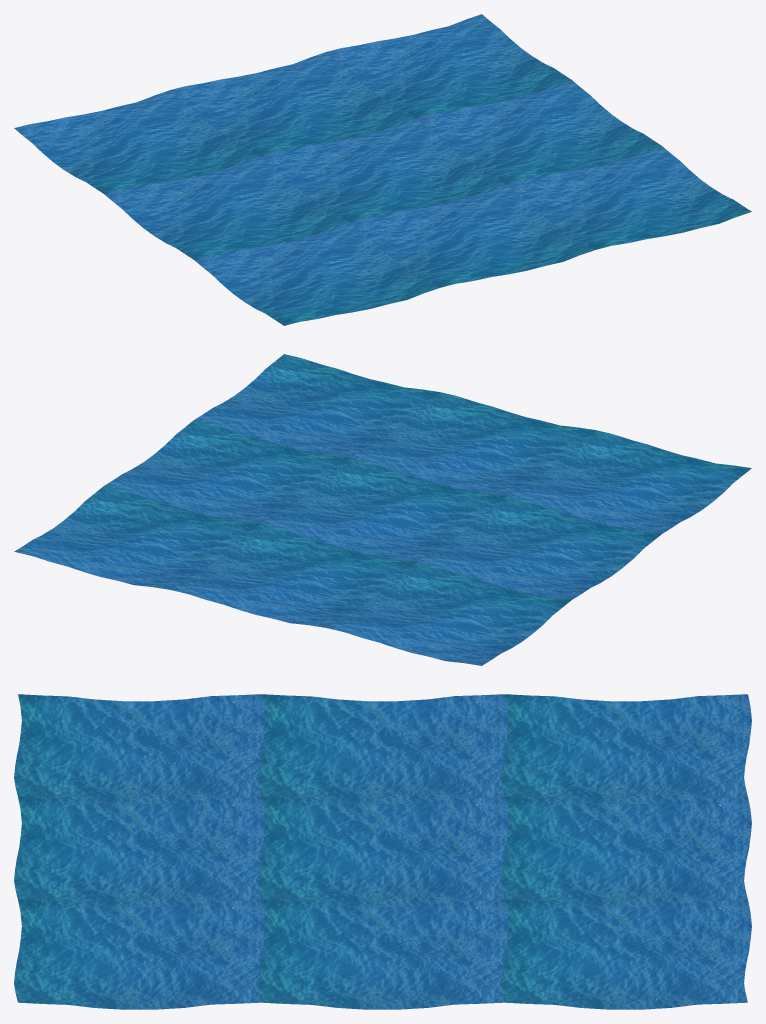
File: ocean_000166.obj
3 renders of one model, top to bottom at view 1: azimuth 30°, elevation 25°; view 2: azimuth 150°, elevation 25°; view 3: azimuth 270°, elevation 25°, orthographic. The views are drawn at different scales.
Parts seen in each view (by area): view 1: Ocean_Plan.001; view 2: Ocean_Plan.001; view 3: Ocean_Plan.001.
Boxes of the visible parts, x1,y1,x2,y2 form: Ocean_Plan.001: (14, 14, 751, 325); Ocean_Plan.001: (14, 354, 751, 665); Ocean_Plan.001: (14, 694, 751, 1009).
Bounding box in the file's own units: 109056 × 2032 × 110157.
1 material, 1 textured.
